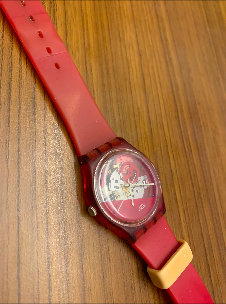Nonfood: (76, 91, 166, 250)
